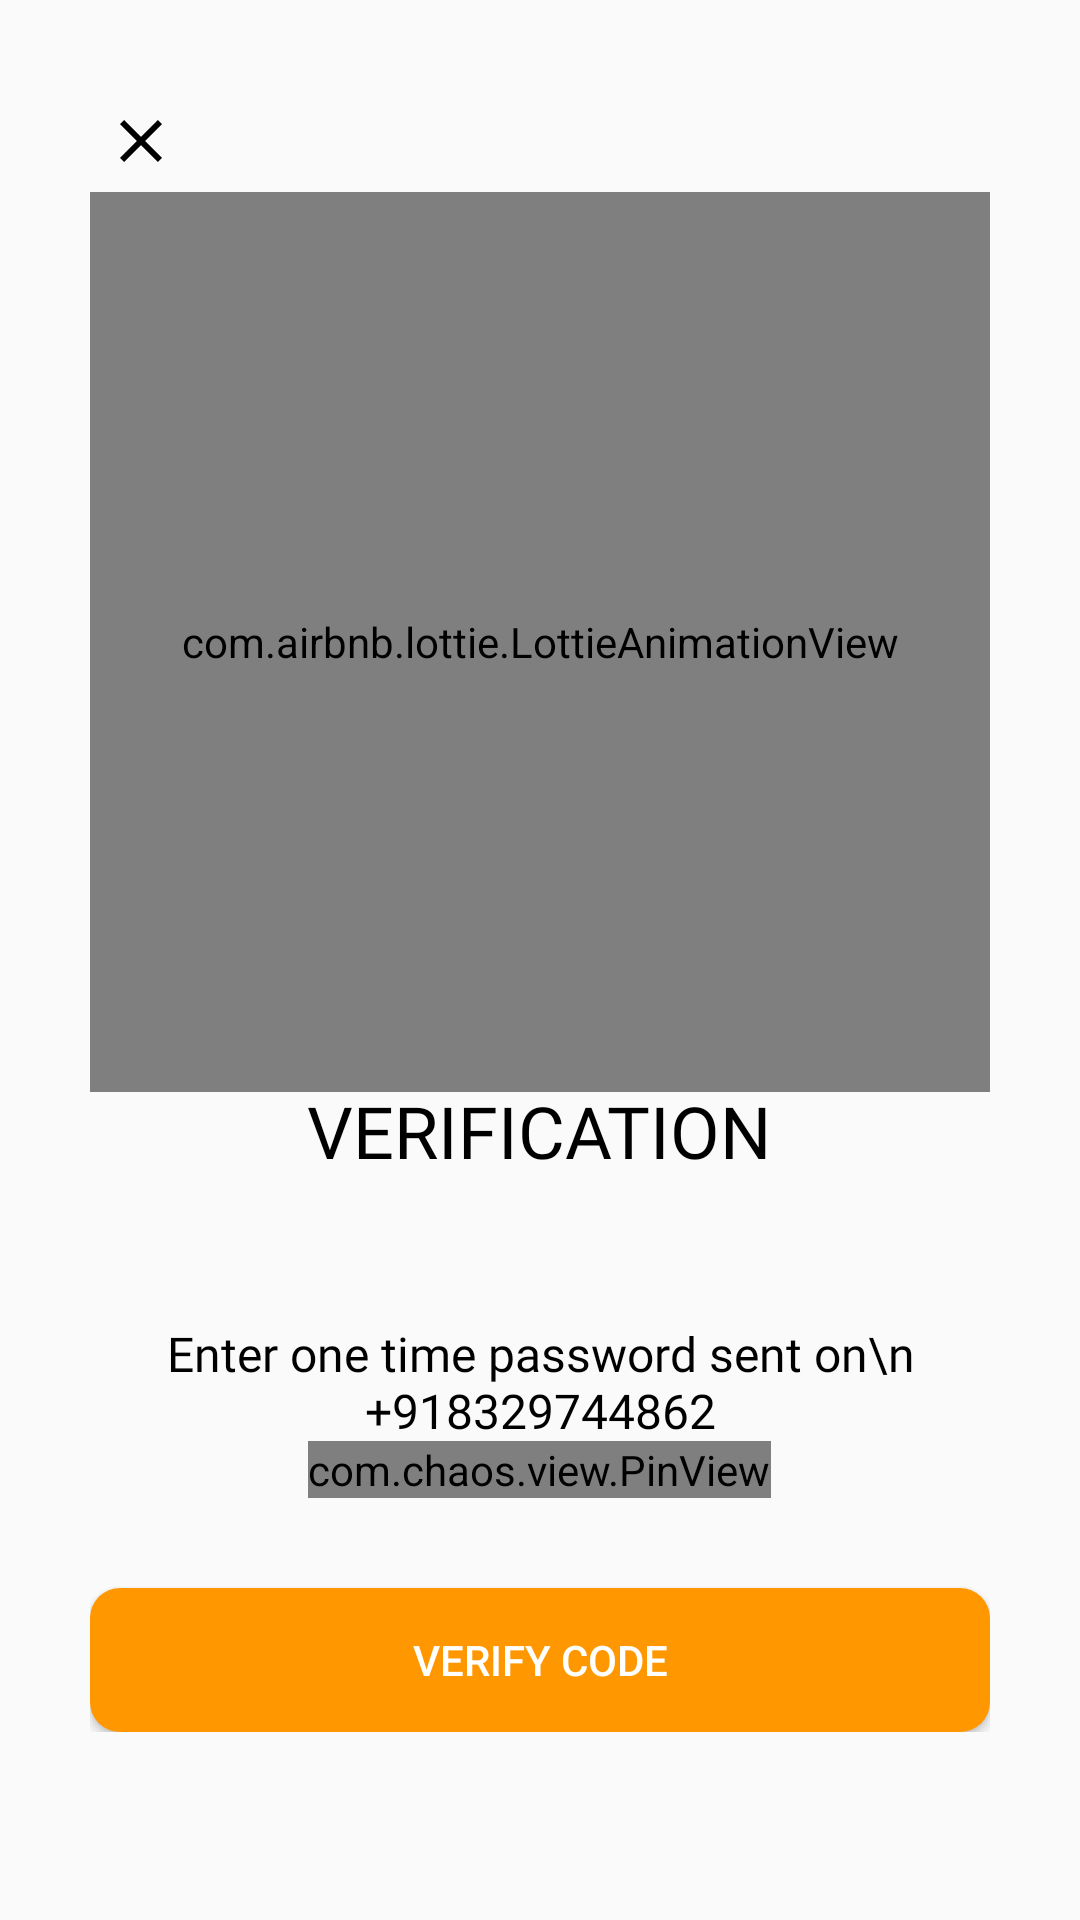

Where icons sit on this 1080*1920 app screen, as bbox=(x1, y1, x2, y2):
general close: bbox=(120, 120, 162, 162)
